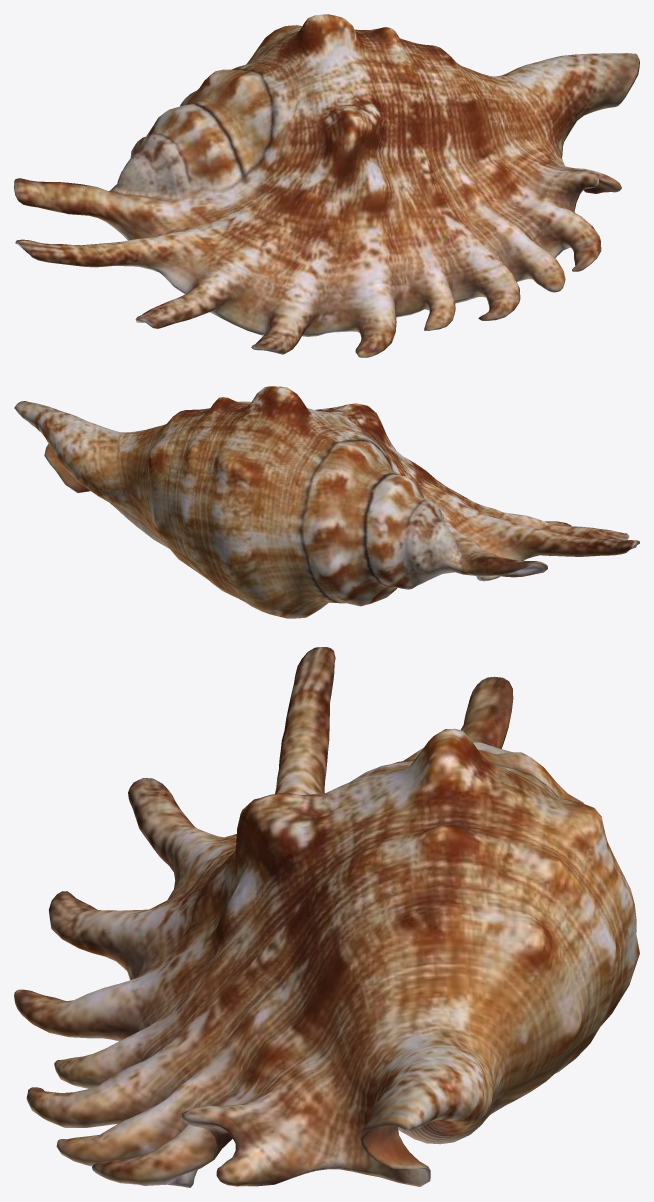
Rendered from ph_lambis_shell.glb.
3 renders of one model, top to bottom at view 1: azimuth 30°, elevation 25°; view 2: azimuth 150°, elevation 25°; view 3: azimuth 270°, elevation 25°, orthographic. The views are drawn at different scales.
Visible parts, largest first — view 1: lambis_shell; view 2: lambis_shell; view 3: lambis_shell.
Boxes of the visible parts, x1,y1,x2,y2 form: lambis_shell: (14,14,639,357); lambis_shell: (14,386,639,618); lambis_shell: (14,647,639,1187).
Bounding box in the file's own units: 0.1395 × 0.0465 × 0.0746.
1 material, 1 textured.
